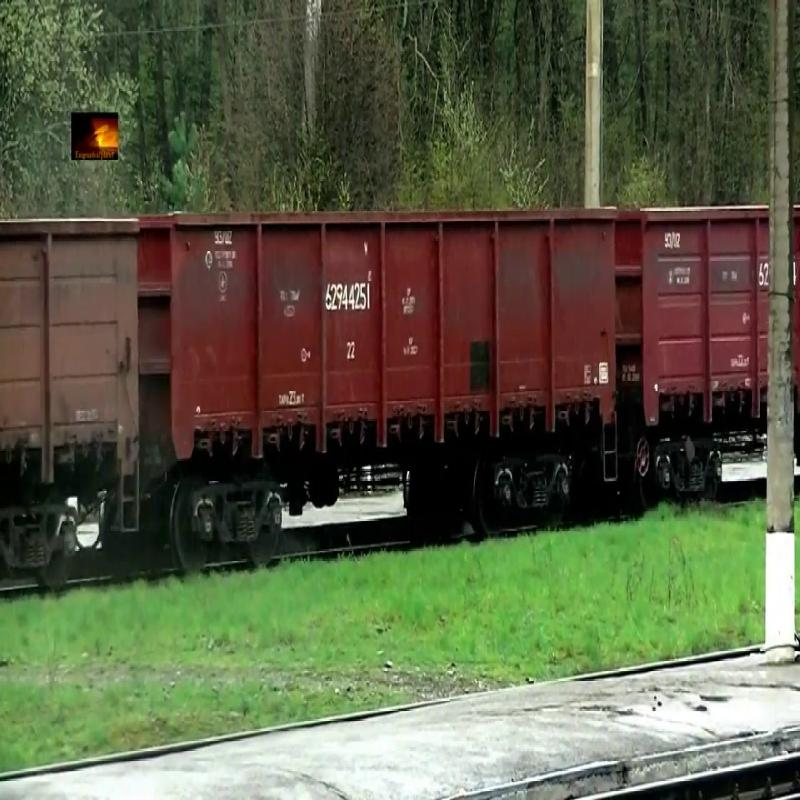train: (143, 205, 619, 467), (1, 216, 143, 492), (620, 207, 772, 431)
